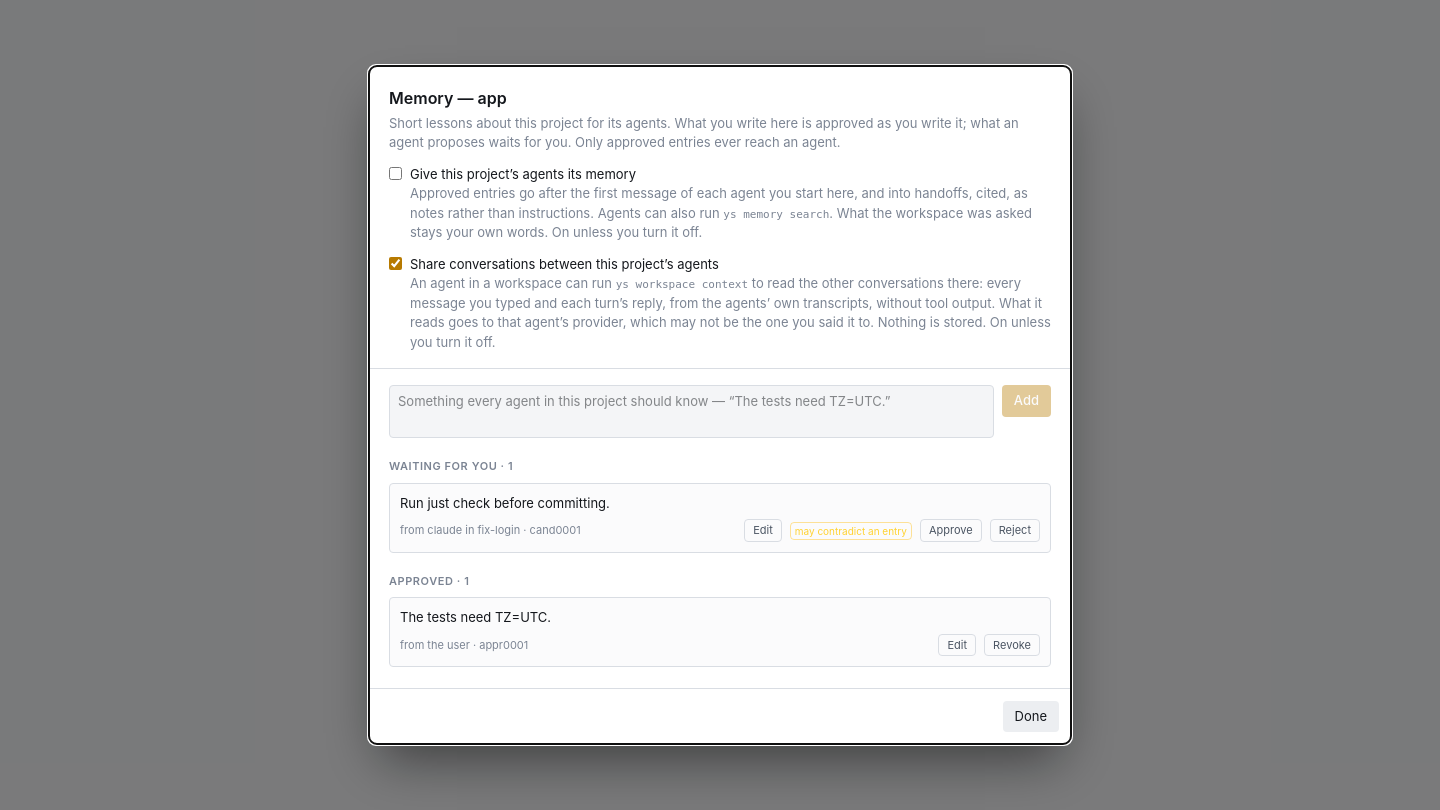
Test: MemoryDialog › asks again when the approved entries change, and drops the old tags meanwhile
Expected: the dialog "Memory — app" is shown, [368, 65, 1072, 745]
Expected: the text "The tests need TZ=UTC." is shown, [400, 609, 551, 625]
Click the button "Revoke": click(1012, 645) [984, 634, 1040, 656]
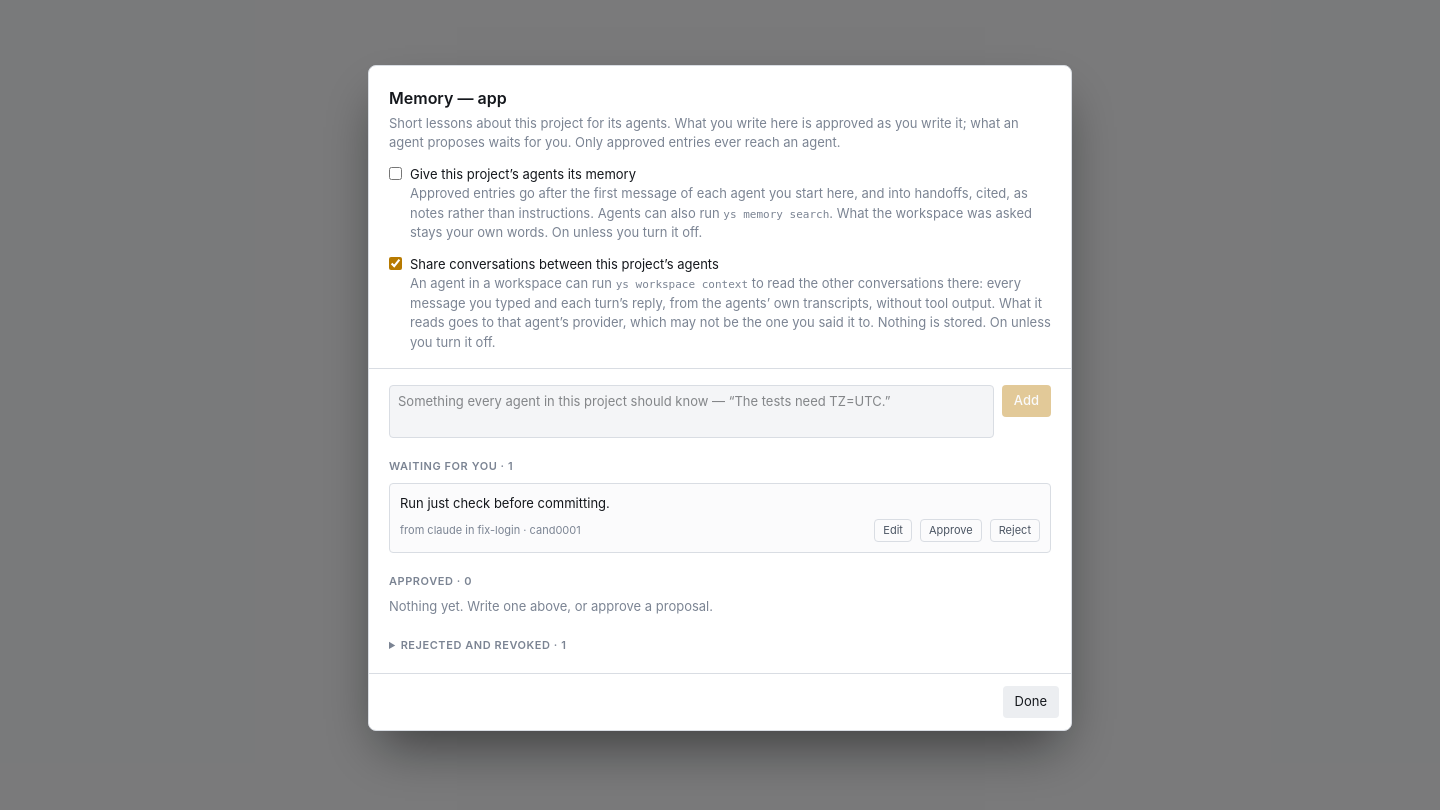
Expected: the text "may contradict an entry" is gone
